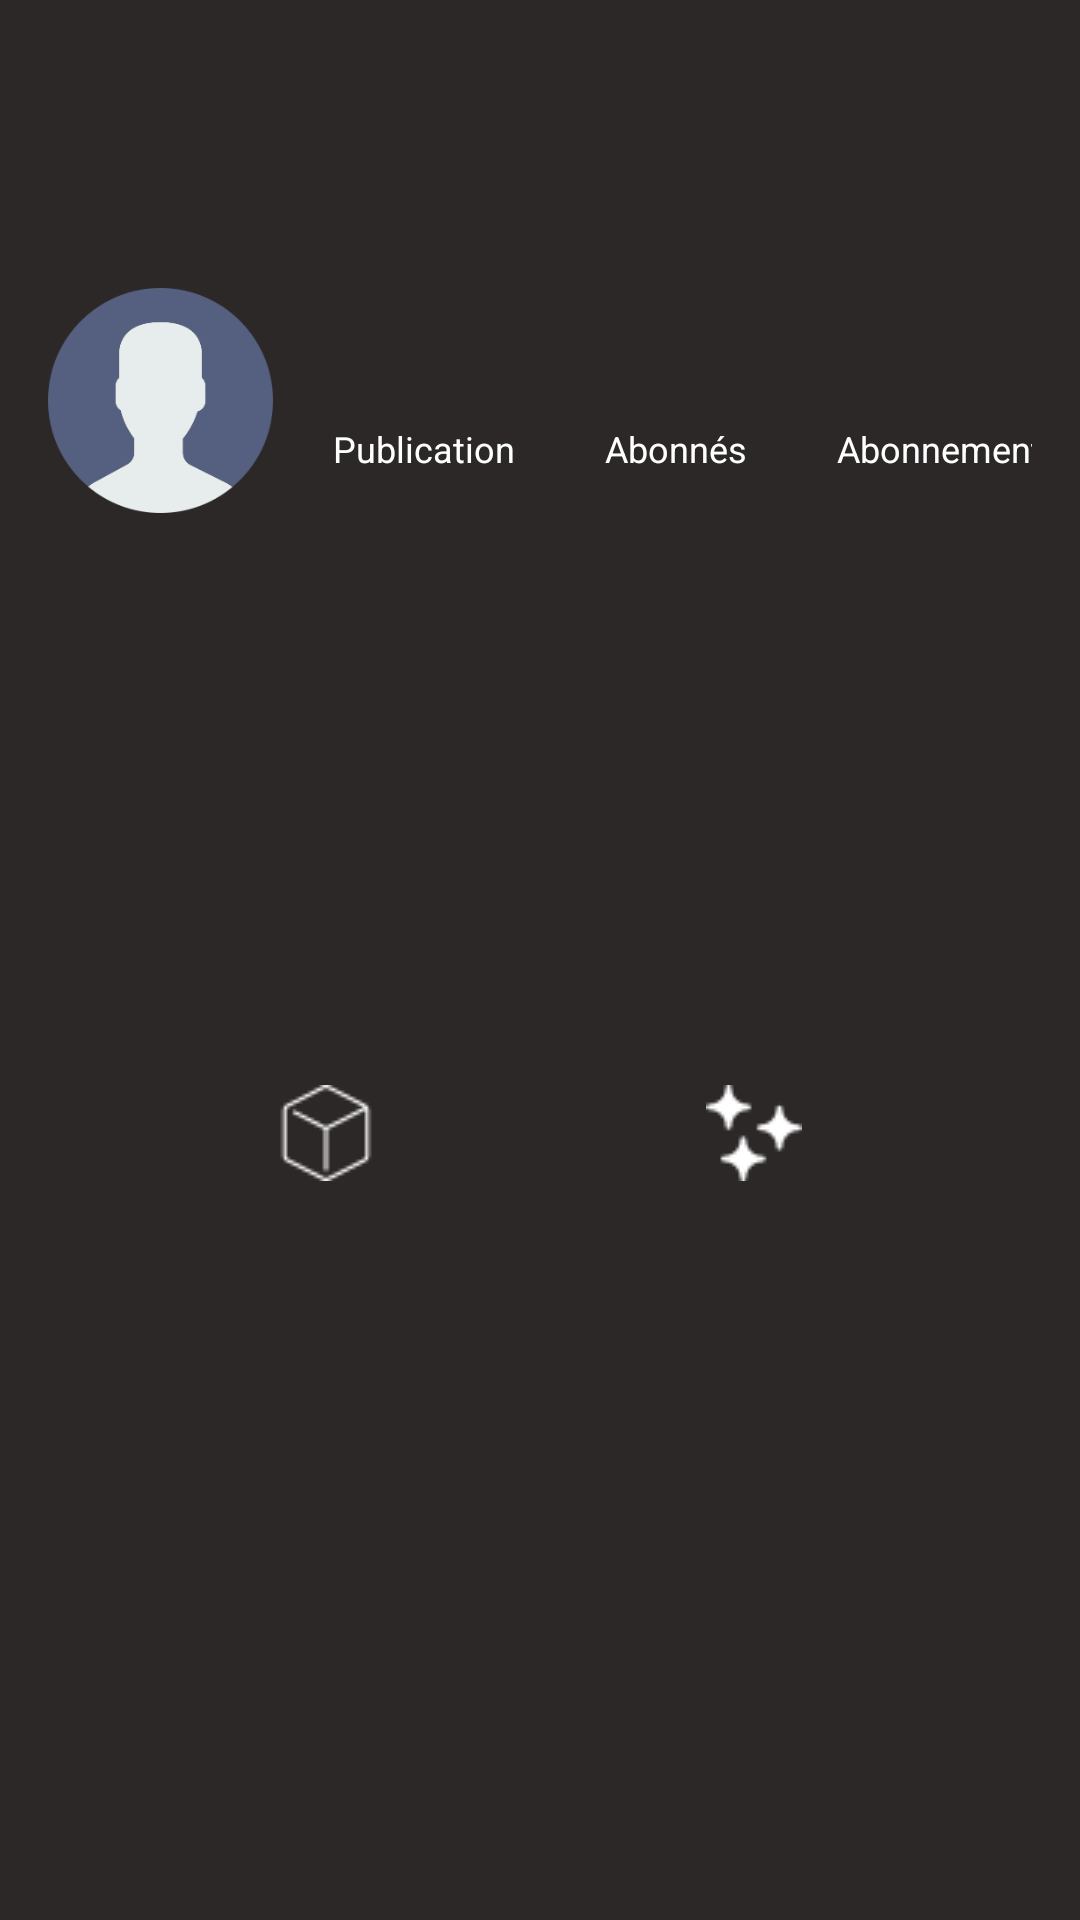

Icon bounding boxes for this 1080*1920 phone screenshot, format region(x1, y1, x2, y2):
cube: region(281, 1085, 371, 1181)
photo profil: region(48, 288, 273, 513)
